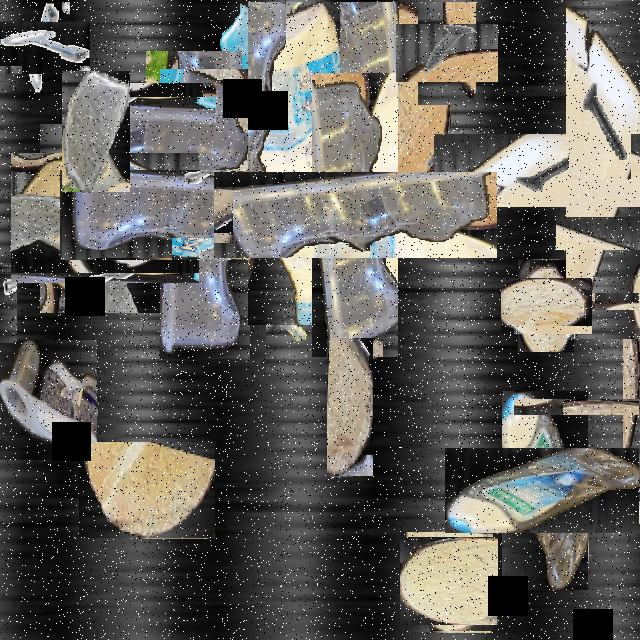glass: (216, 2, 290, 133), (62, 71, 130, 192)
metal: (569, 70, 631, 180), (407, 13, 487, 94), (266, 270, 324, 374), (8, 12, 80, 84), (228, 174, 270, 249), (606, 277, 640, 326), (0, 265, 17, 343)
plastic: (110, 120, 300, 310), (262, 122, 448, 308), (248, 2, 350, 325), (500, 67, 640, 273), (25, 139, 185, 298), (474, 419, 616, 562), (0, 340, 97, 460)
wood: (340, 2, 450, 194), (130, 68, 258, 196), (79, 442, 215, 538), (568, 344, 640, 469), (402, 535, 496, 628), (327, 338, 373, 476), (509, 269, 583, 343), (581, 190, 640, 275)
